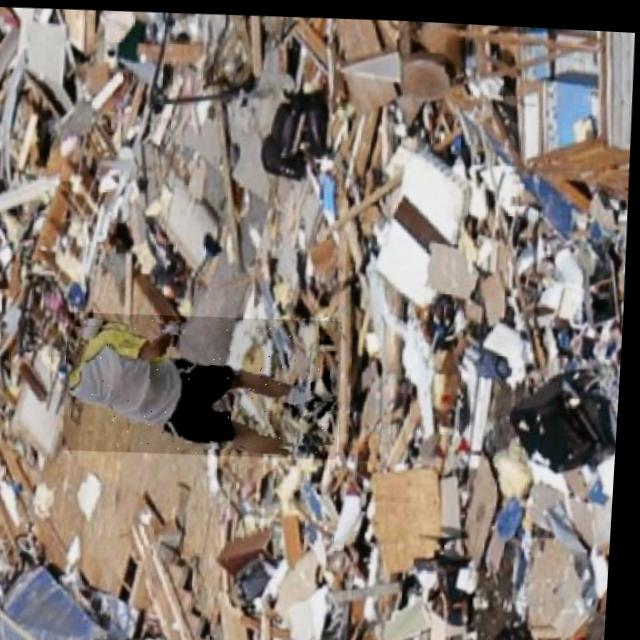Person in Rubble: (65, 305, 348, 459)
